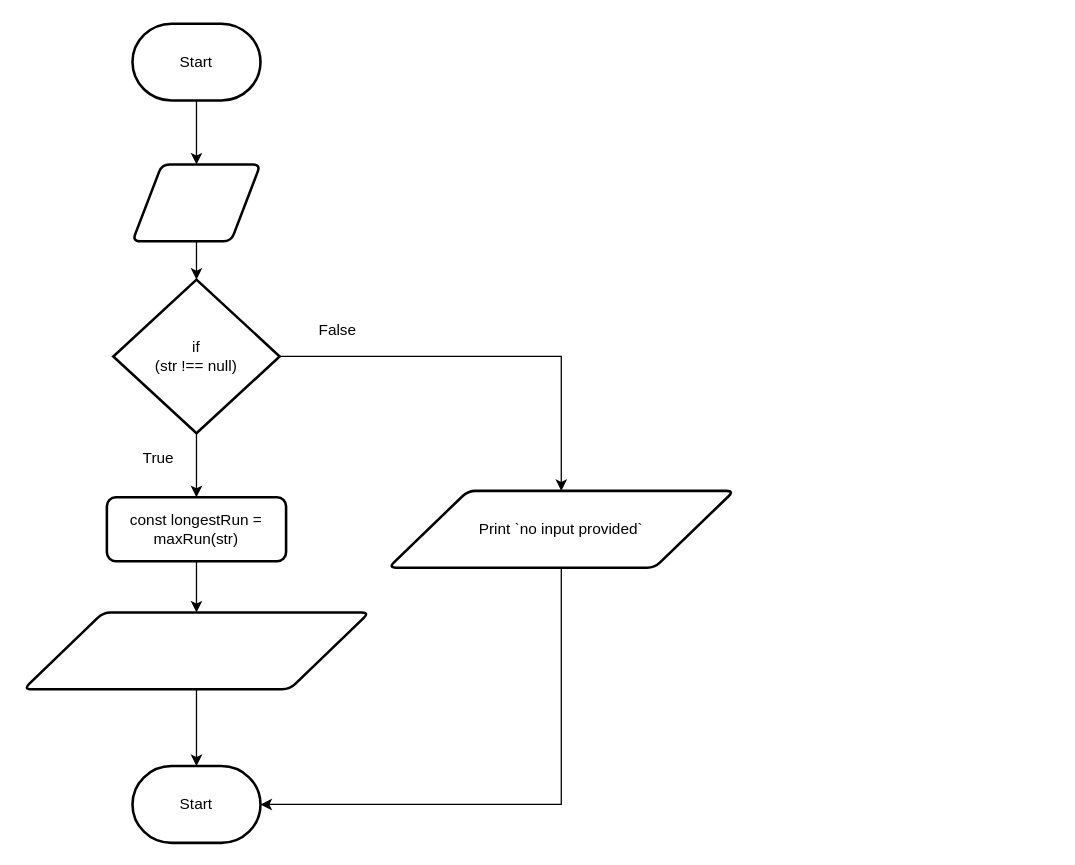
This 1075x865 diagram has some shape labels left out. The centre of each missing label's shape, as x and y in pixels:
"Get string" goes at pixel 196 202.
"Print `The length of the longest run is: ${longestRun}`" goes at pixel 196 650.
